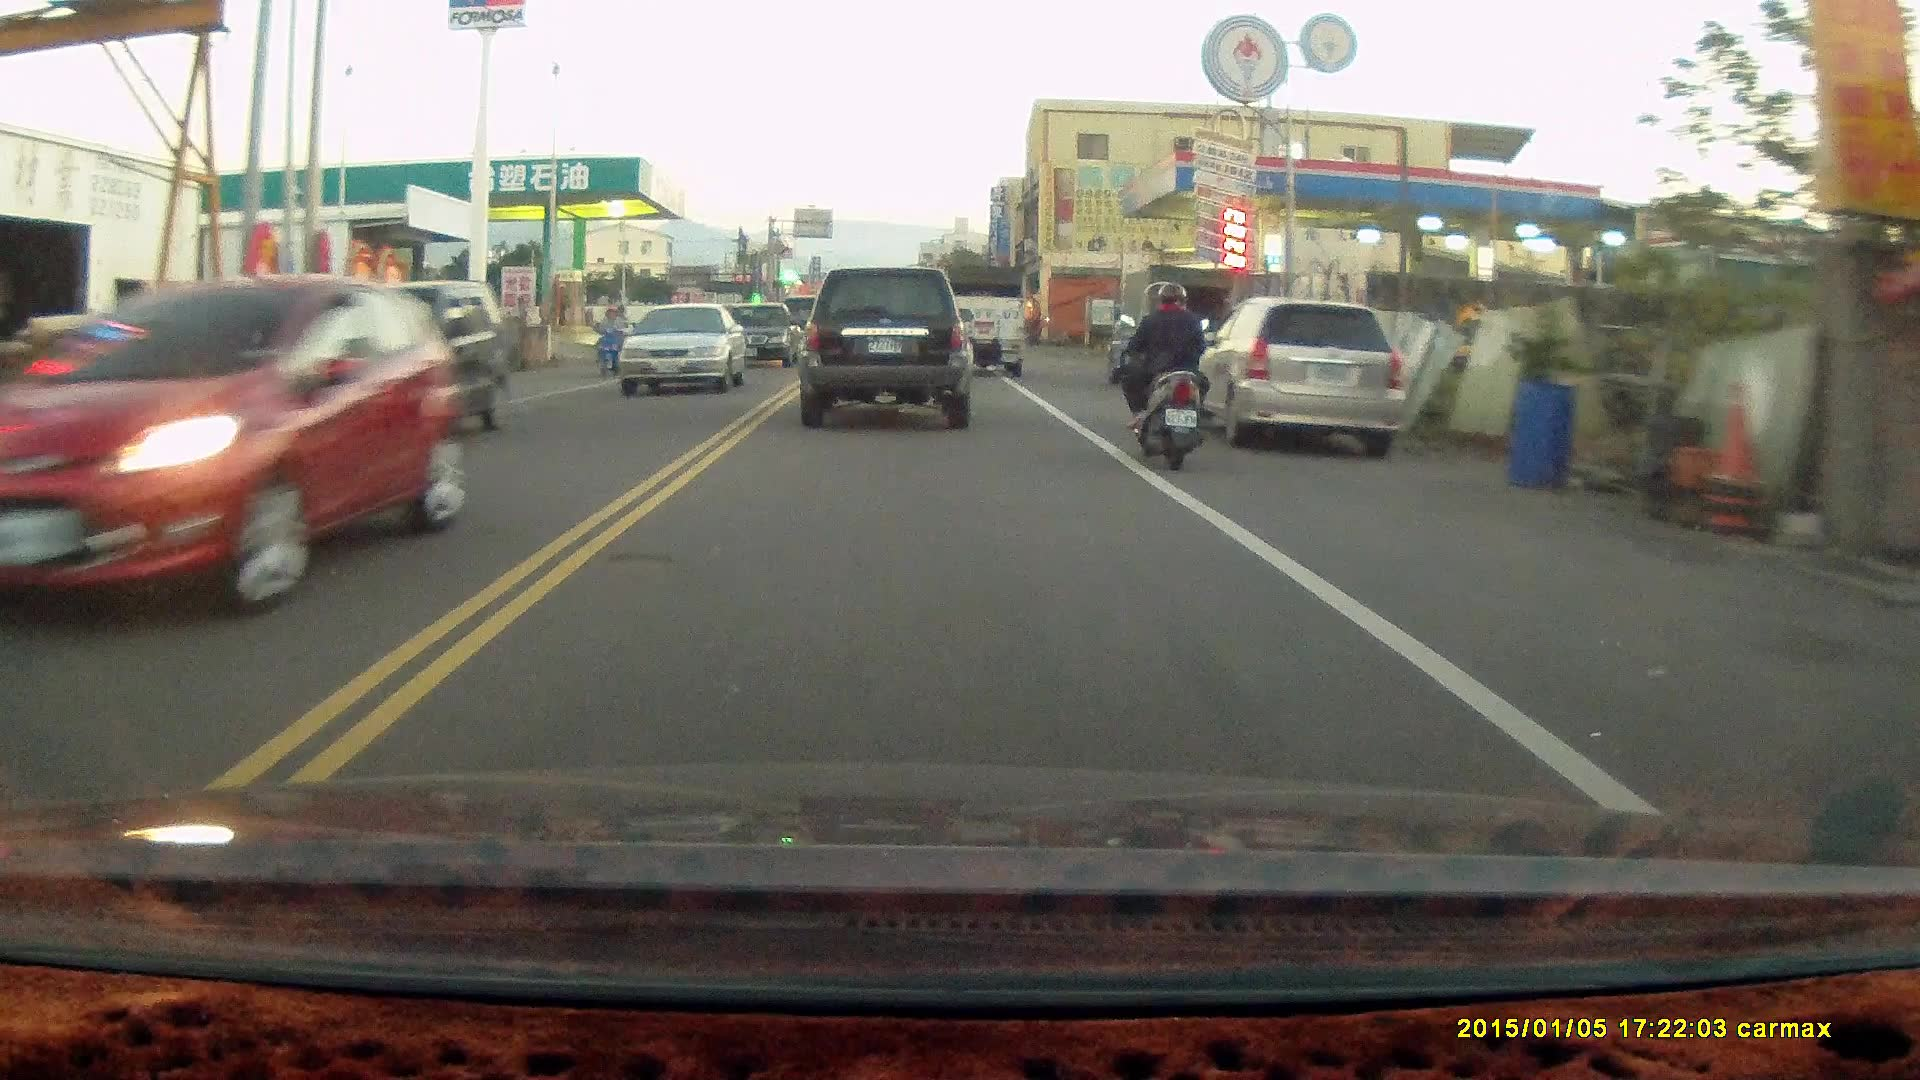rider: (1114, 275, 1211, 463), (590, 301, 635, 380)
vehicle: (1, 268, 474, 616), (268, 276, 507, 455), (1196, 294, 1414, 459), (794, 264, 972, 429), (1108, 262, 1237, 381), (617, 301, 751, 394), (937, 259, 1024, 376), (722, 301, 803, 366)
